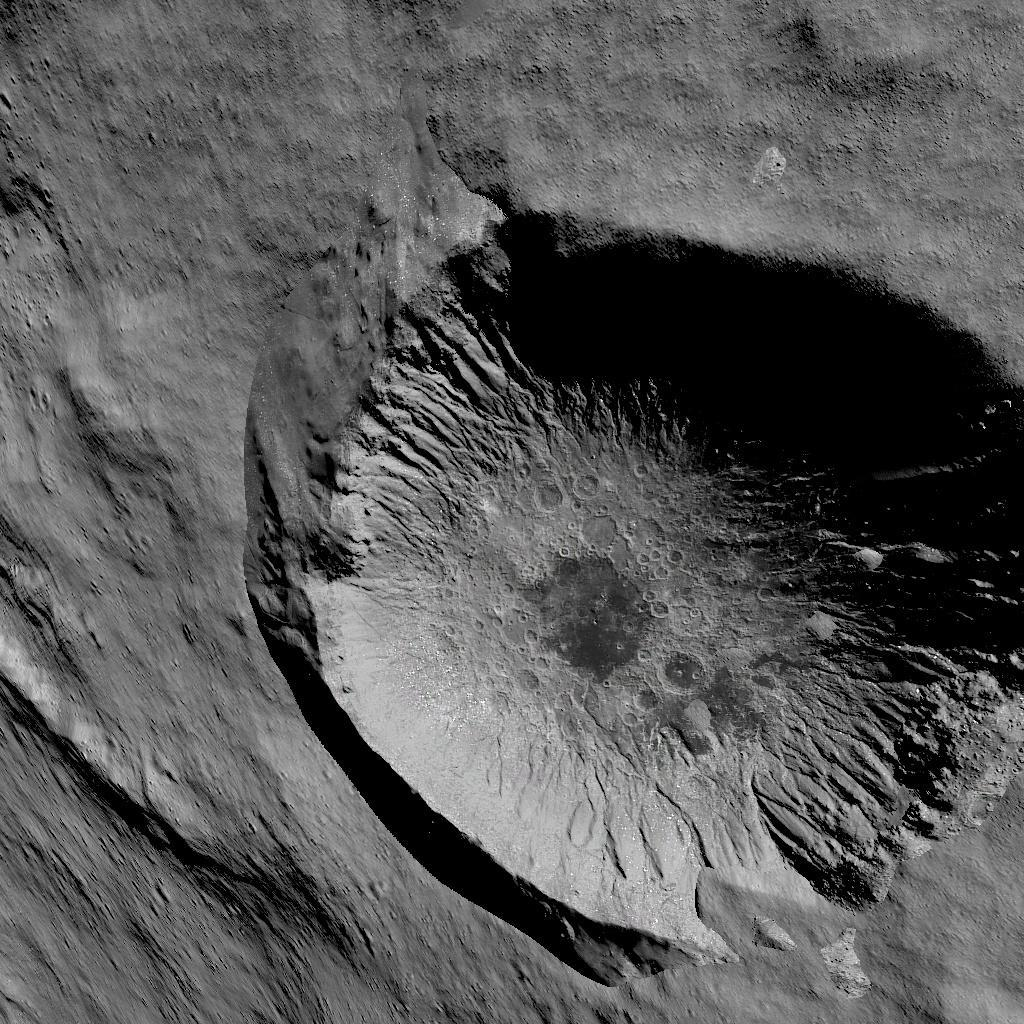Crater: (251, 148, 1024, 962)
Plan surface: (31, 0, 202, 703), (247, 4, 1024, 122)
